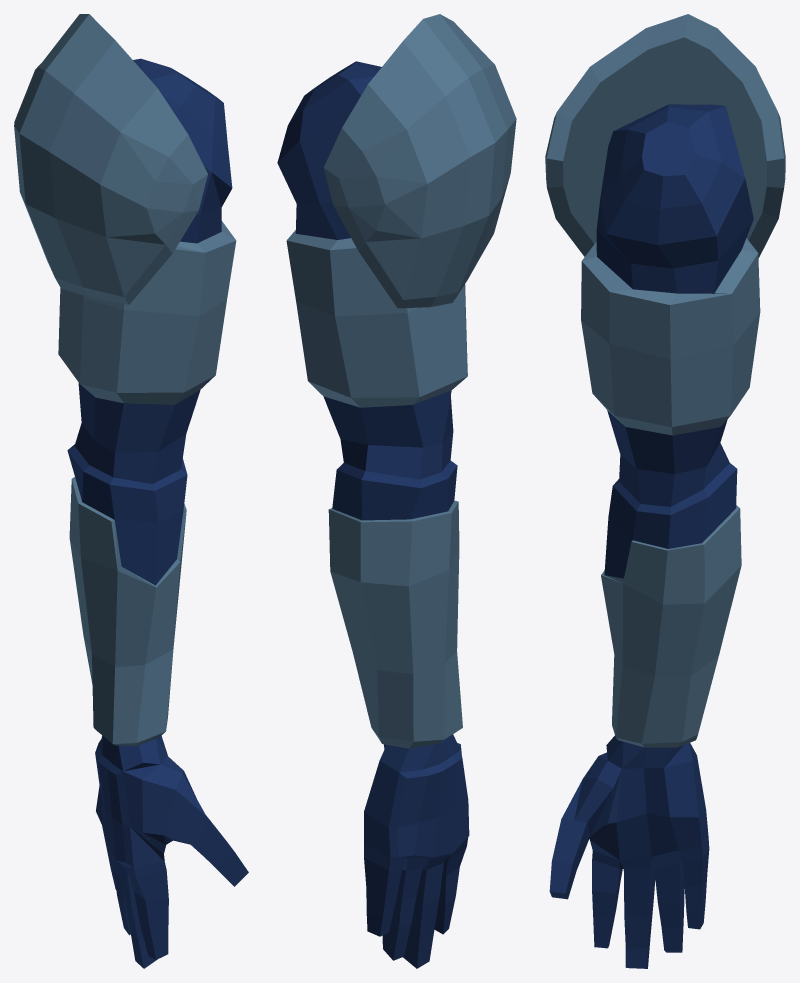
Rendered from left_arm.fbx.
The picture shows the model from 3 angles, left to right: view 1: azimuth 30°, elevation 25°; view 2: azimuth 150°, elevation 25°; view 3: azimuth 270°, elevation 25°; orthographic projection. The views are drawn at different scales.
Visible parts, largest first — view 1: left_arm_upperarm; view 2: left_arm_upperarm; view 3: left_arm_upperarm.
Part boxes in pixels (x1,y1,x2,y2): left_arm_upperarm: (14, 14, 248, 968); left_arm_upperarm: (277, 14, 516, 968); left_arm_upperarm: (545, 14, 785, 968).
Bounding box in the file's own units: 0.1804 × 0.8238 × 0.1906.
